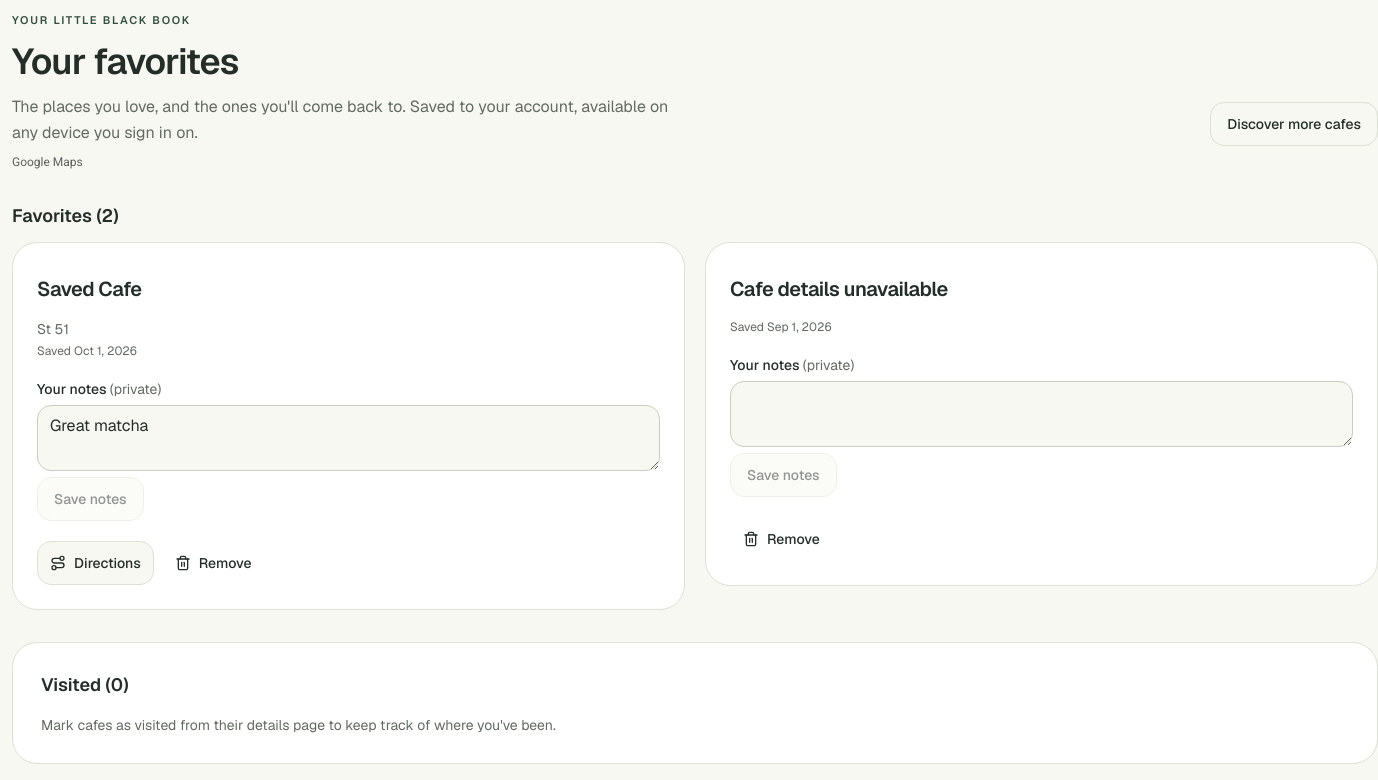
FavoritesView › saves notes and removes favorites
Replace the text in the text box labelled "Your notes (private)" below "Oct 1, 2026" with "Try the cold brew" at (348, 438), box 37,405 -> 660,471
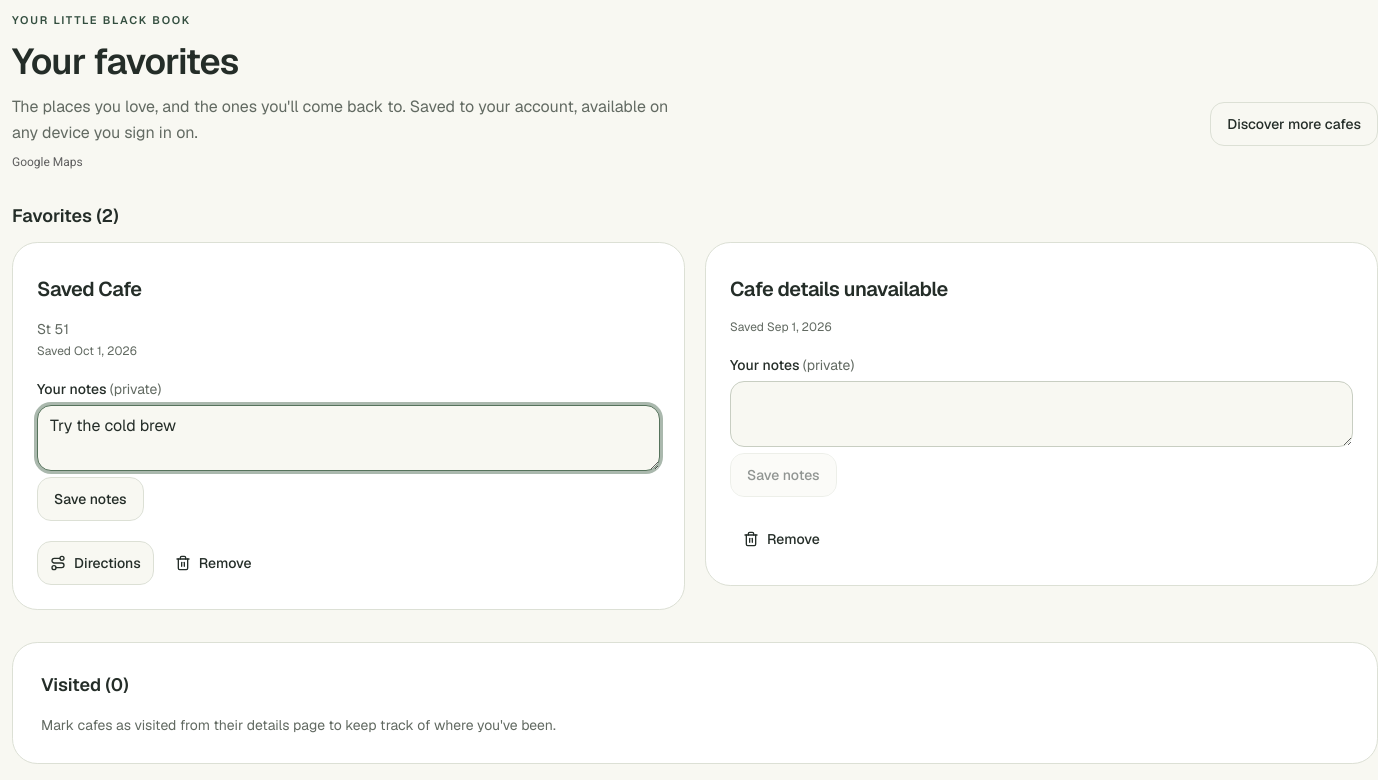
Click the button "Save notes" below "Oct 1, 2026" at (90, 499), box 37,477 -> 144,521
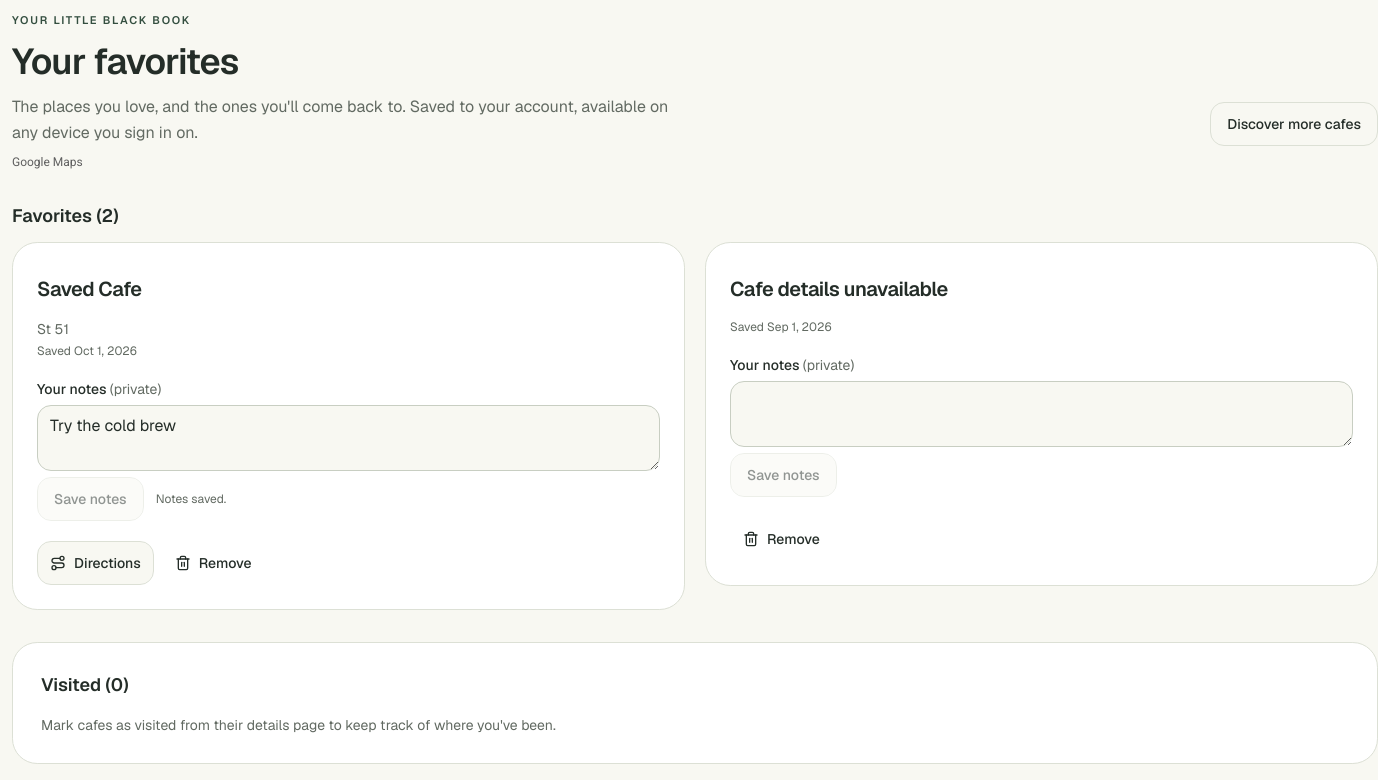
Now the text "Notes saved." is shown, box 156,491 -> 226,507
Click the button "Remove" next to "Directions" at (213, 563), box 162,541 -> 265,585
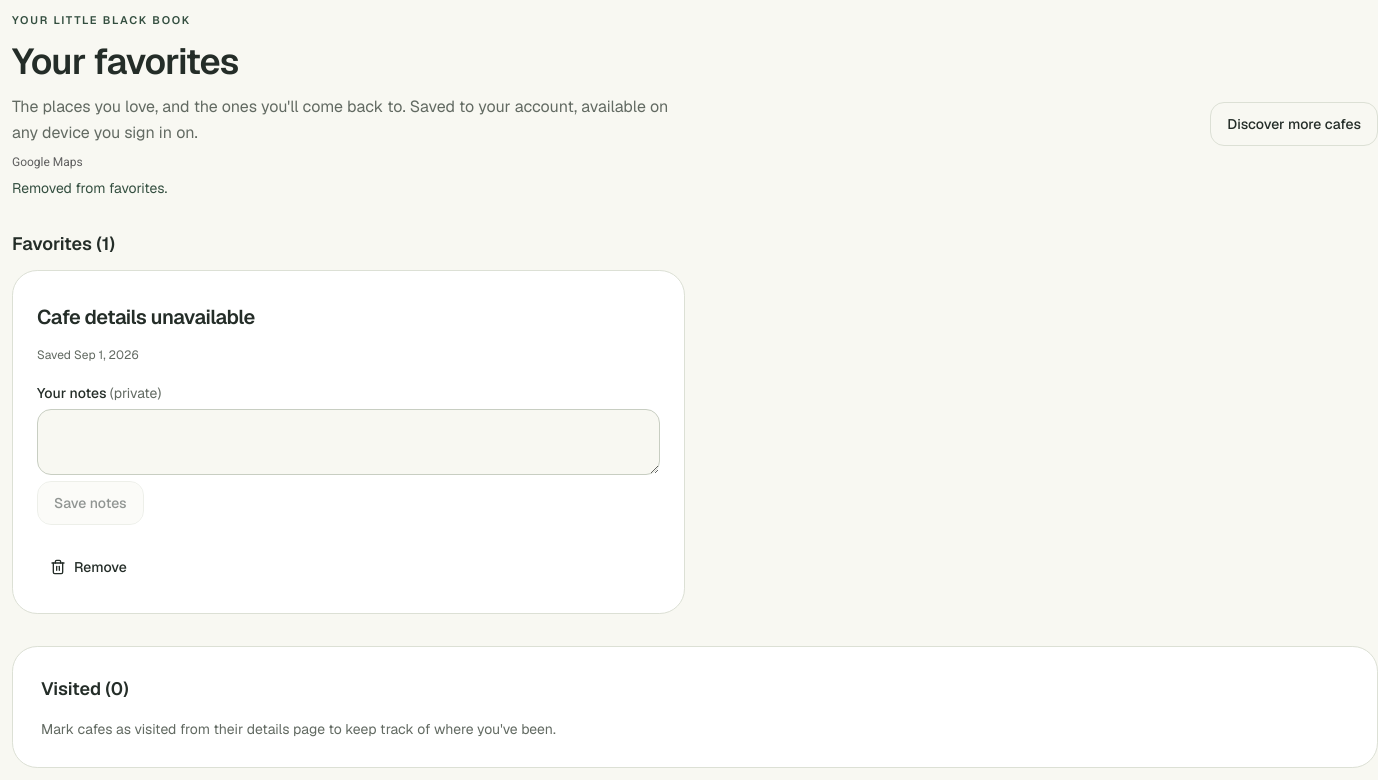
Now the link "Saved Cafe" is gone
